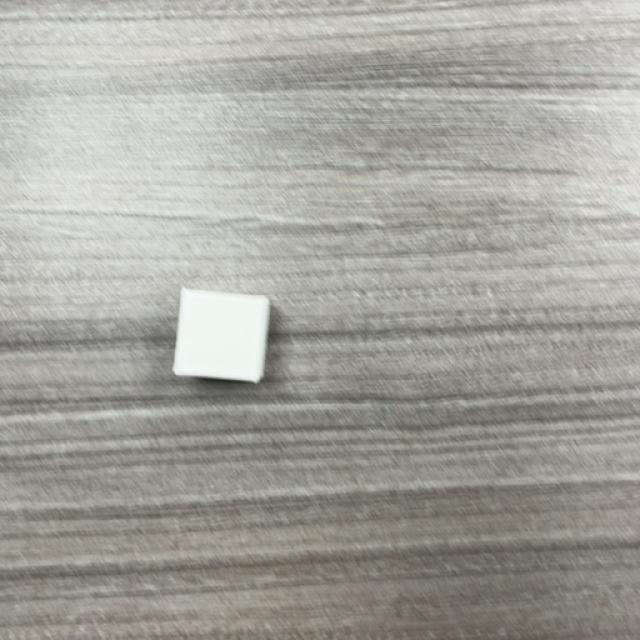Blanco: (174, 289, 270, 386)
